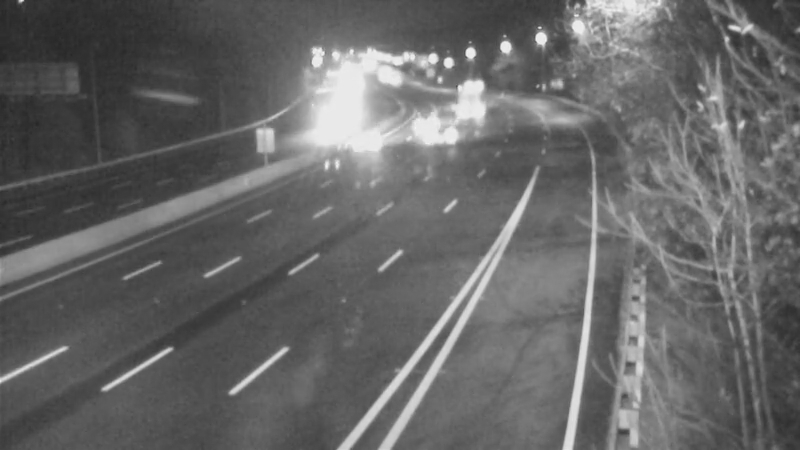vehicle: (447, 72, 497, 122), (399, 94, 449, 144), (416, 111, 466, 161), (349, 115, 399, 165)
